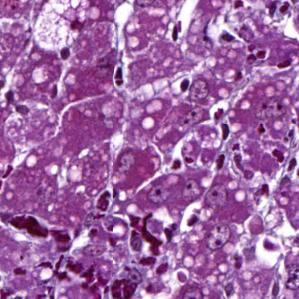ballooning: (29, 0, 92, 55)
